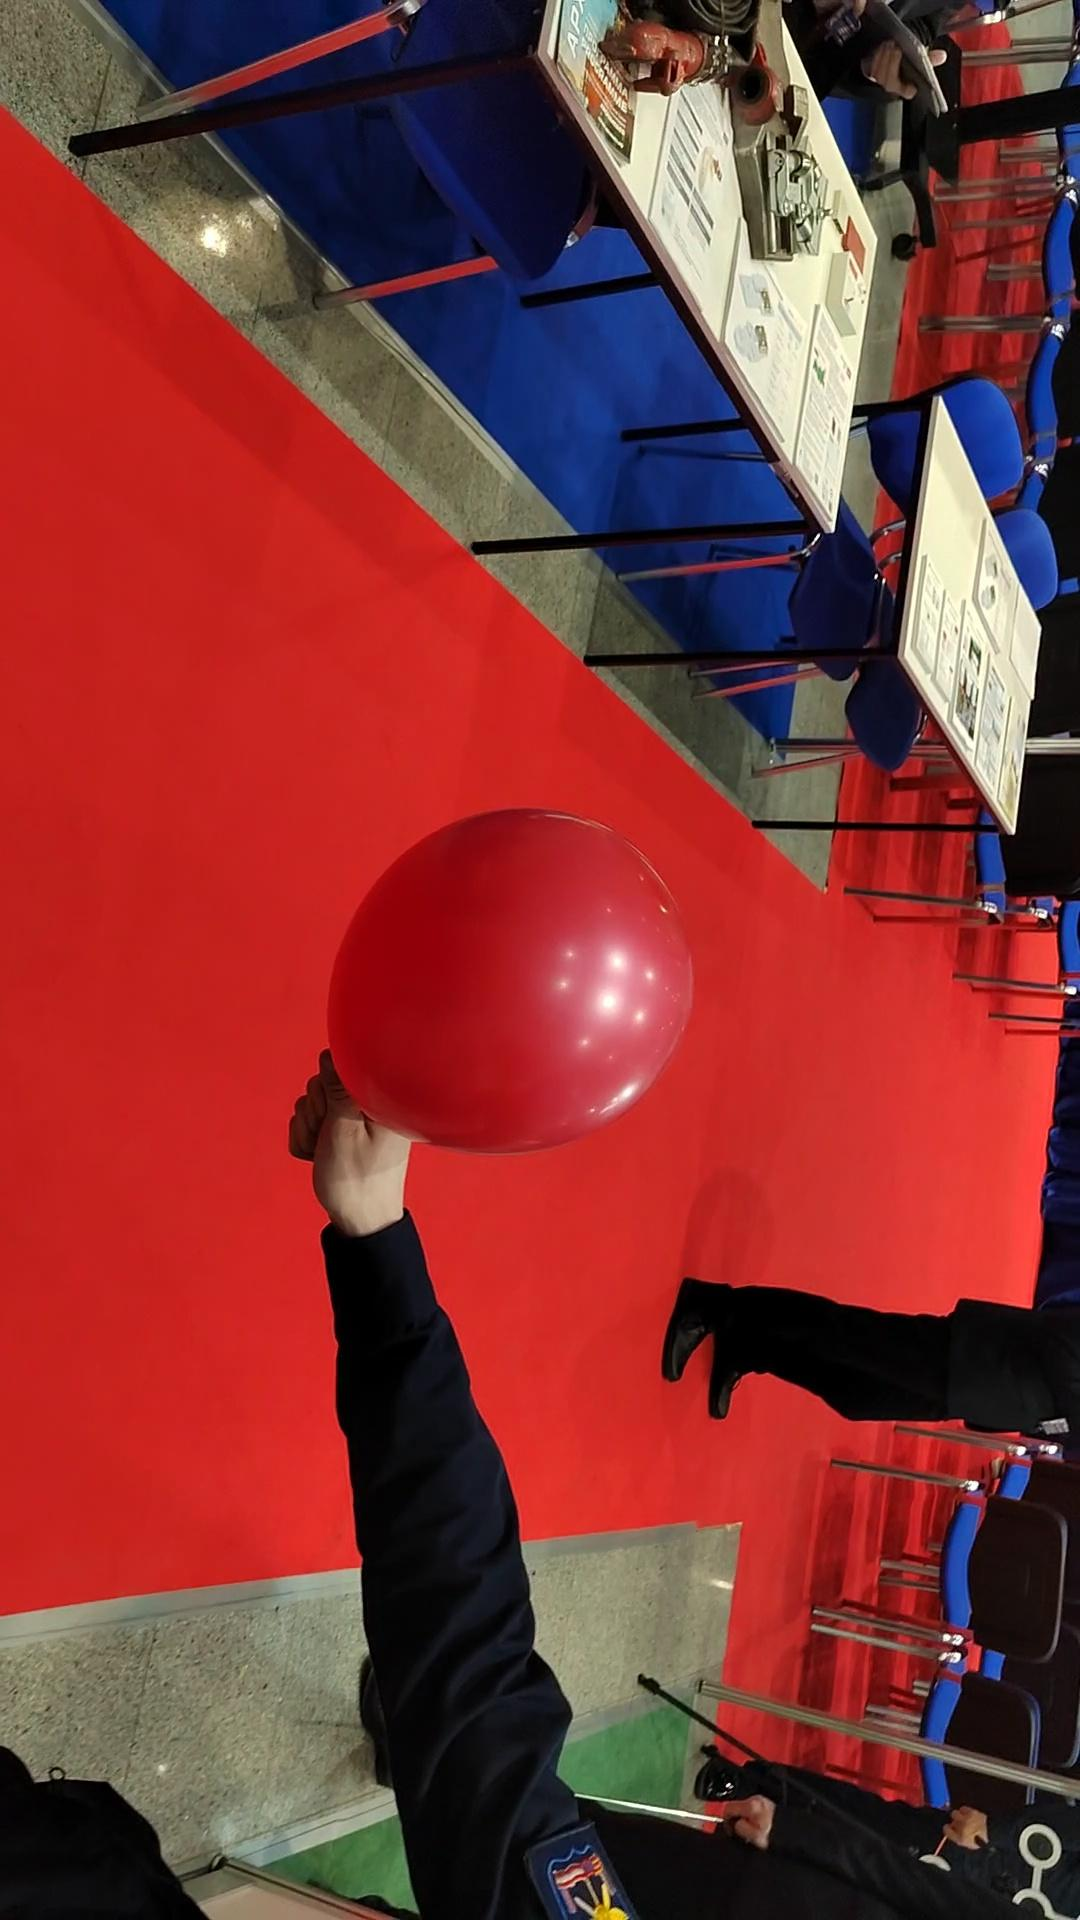red: (323, 798, 694, 1150)
